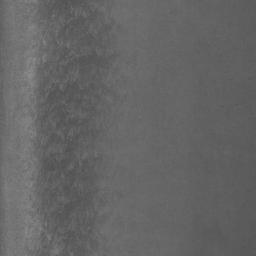Silk spot: (24, 0, 120, 256), (102, 19, 115, 32)
